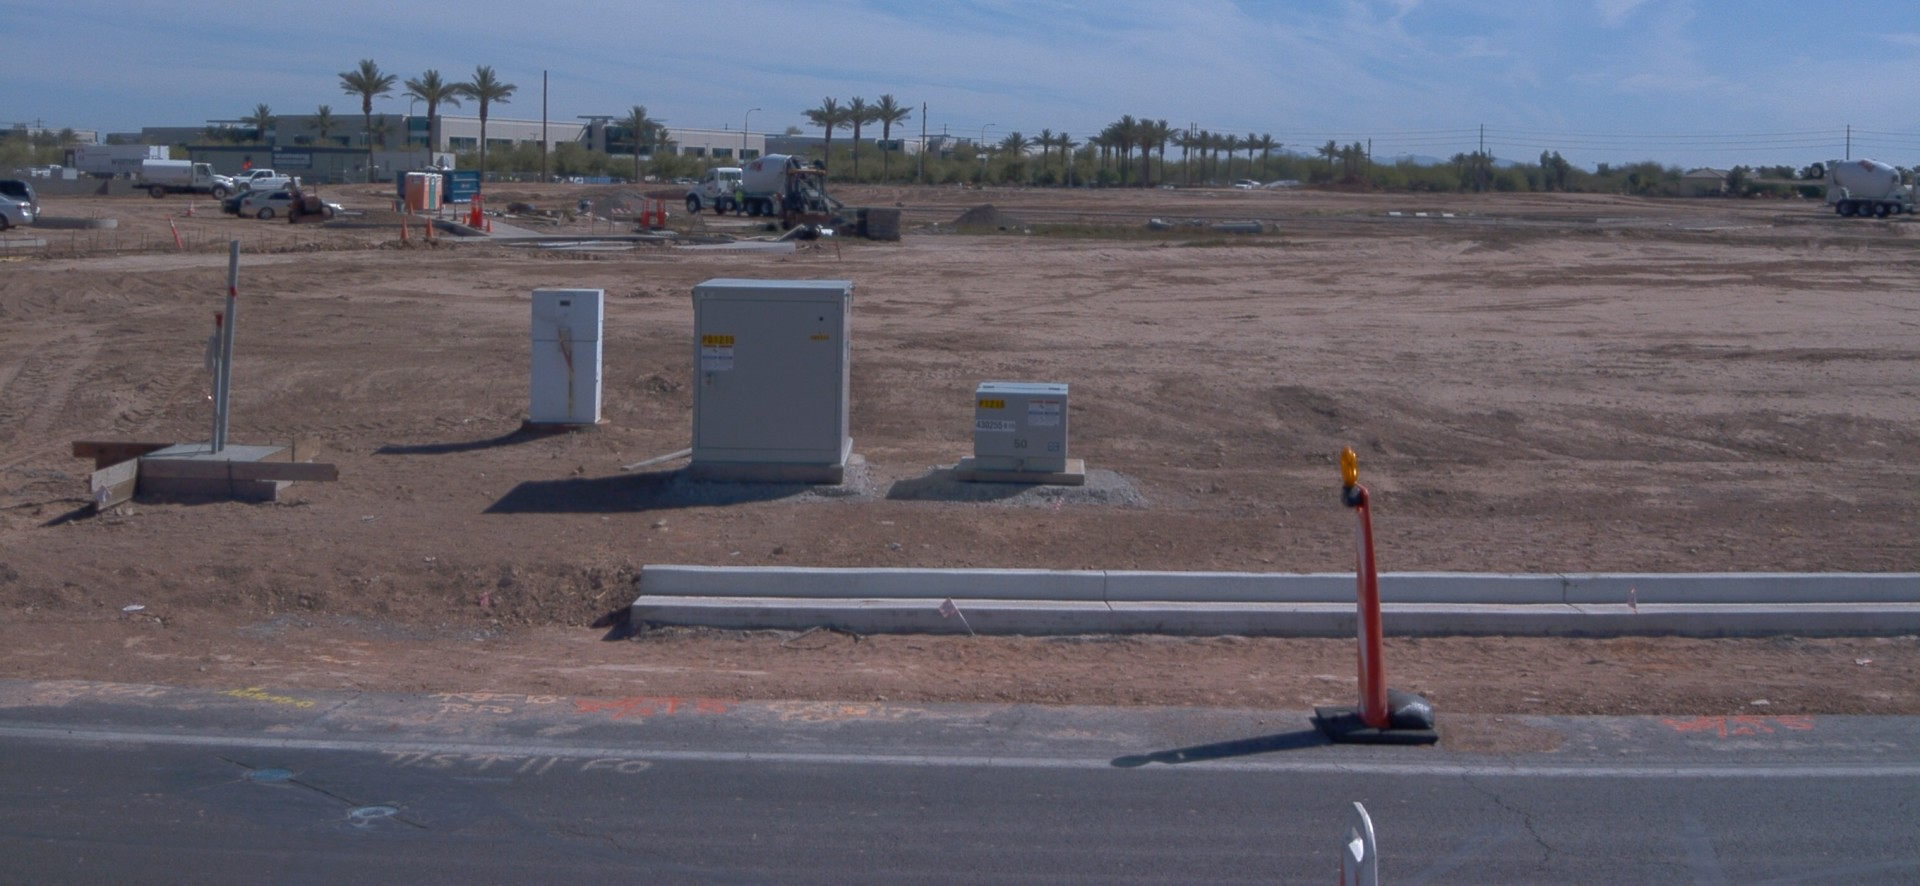TYPE_PEDESTRIAN: (733, 186, 745, 218)
TYPE_VEHICLE: (688, 154, 848, 220), (1807, 155, 1918, 222), (772, 159, 852, 235), (132, 158, 236, 201), (69, 142, 173, 182), (236, 187, 346, 220), (7, 144, 75, 184), (285, 169, 333, 225), (233, 166, 304, 198), (0, 175, 41, 219), (0, 193, 36, 234), (218, 193, 257, 217), (1234, 180, 1262, 194)
